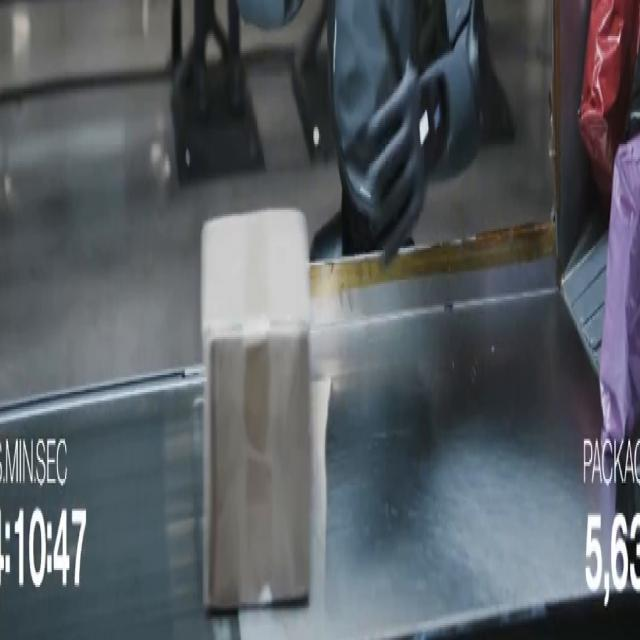package: (202, 210, 311, 612), (580, 0, 639, 205), (600, 138, 639, 442), (626, 56, 639, 141)
